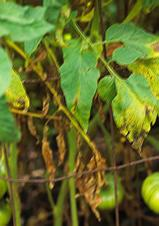Tomato Early blight leaf: (110, 72, 154, 153), (62, 35, 97, 131), (102, 28, 159, 62)
